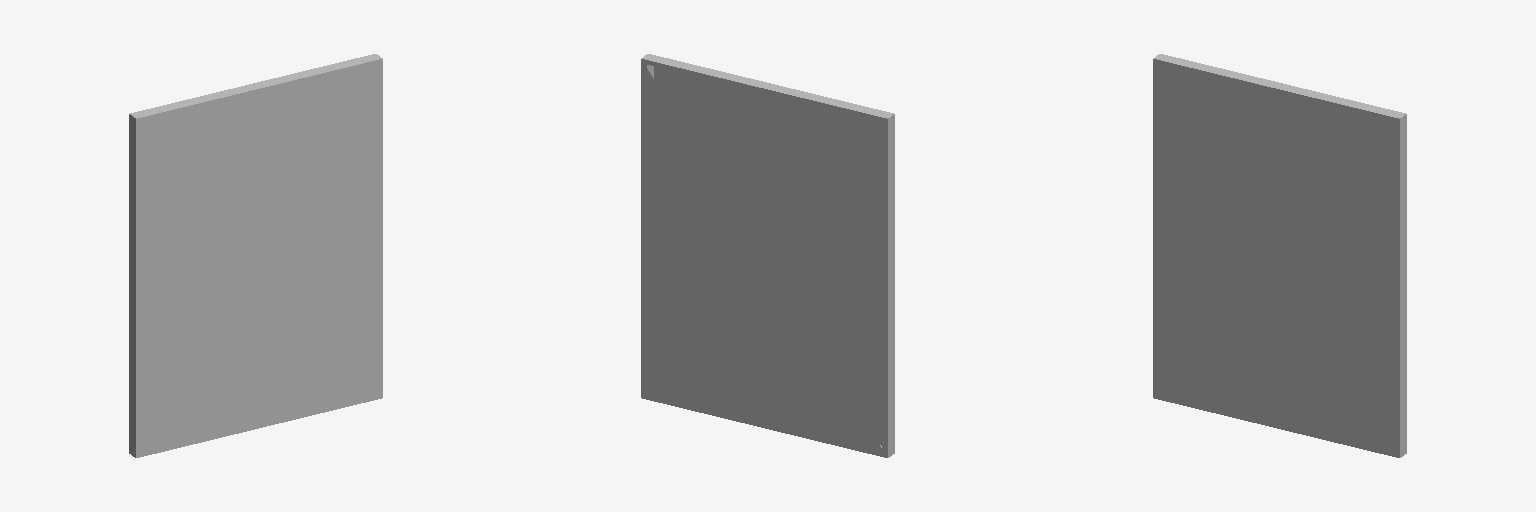
The model's file is BigMenuBox.obj.
3 views of the same model, side by side, from view 1: azimuth 30°, elevation 25°; view 2: azimuth 150°, elevation 25°; view 3: azimuth 330°, elevation 25° (orthographic).
Visible parts, largest first — view 1: pCube3; view 2: pCube3; view 3: pCube3.
Boxes of the visible parts, x1=… form: pCube3: x1=129, y1=54, x2=382, y2=457; pCube3: x1=641, y1=54, x2=894, y2=457; pCube3: x1=1153, y1=54, x2=1406, y2=457.
Bounding box in the file's own units: 9.36 × 12.31 × 0.4588.